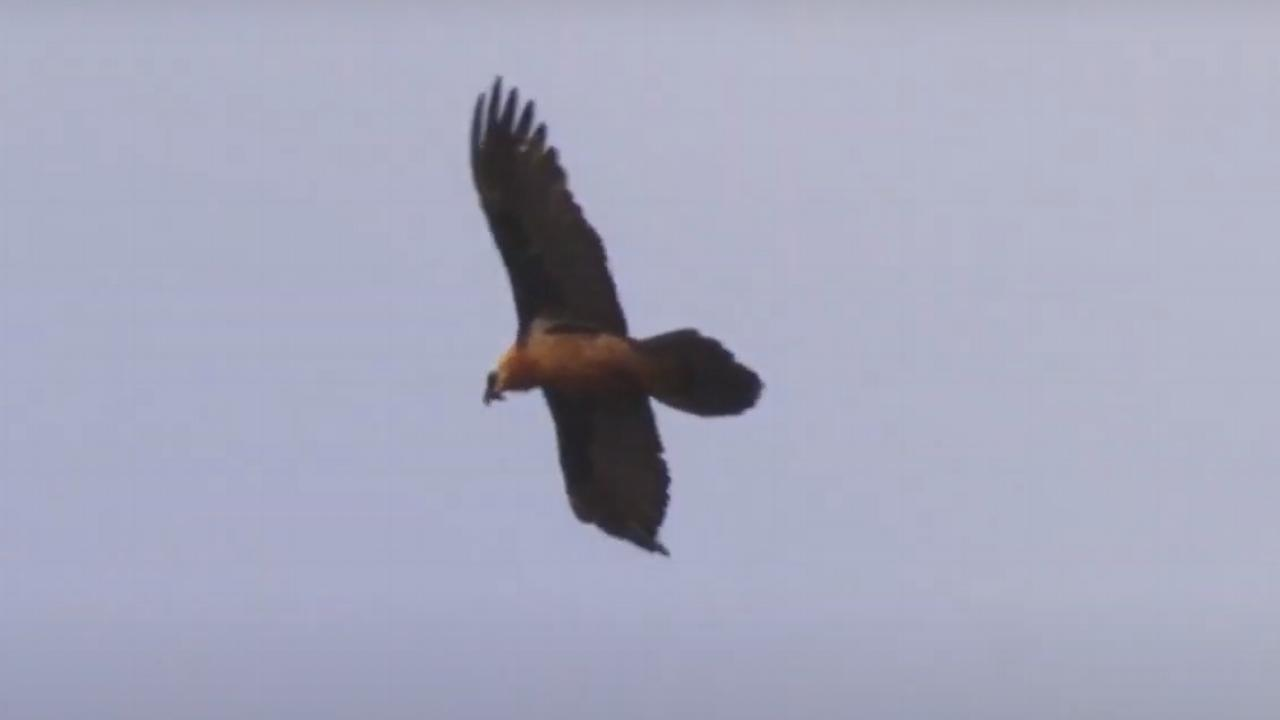Bird: (456, 67, 780, 568)
